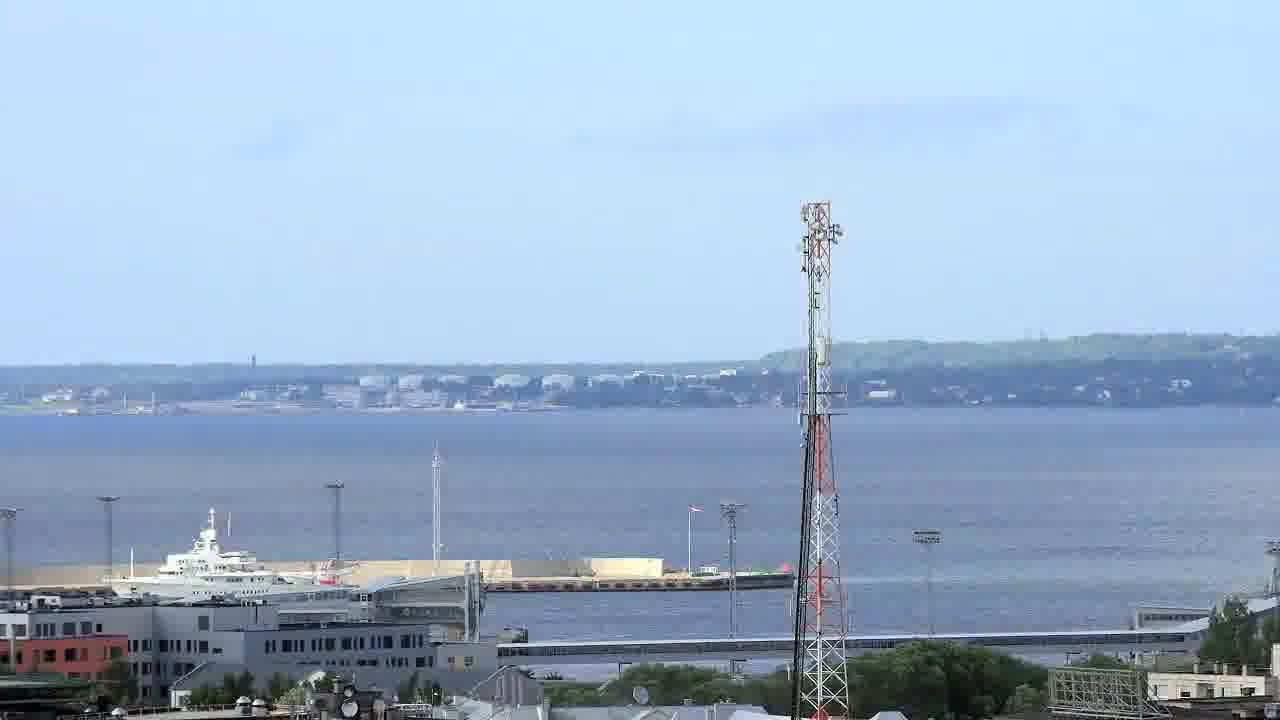type-3: (88, 507, 346, 605)
